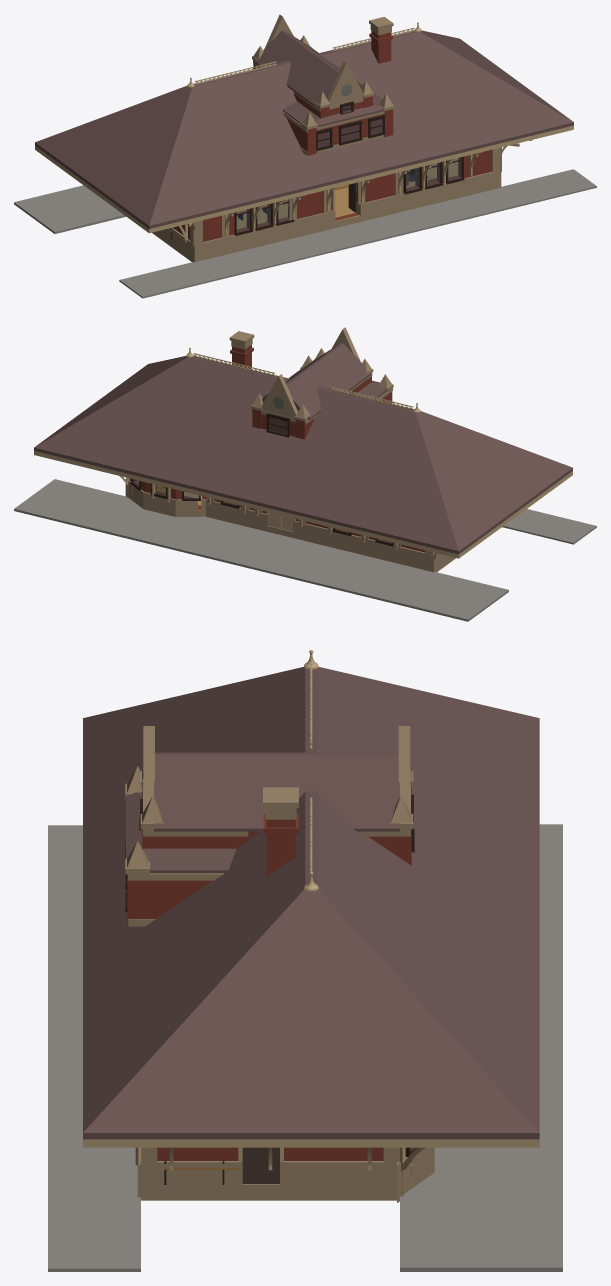
The model's file is Whitewater_Depot.glb.
3 renders of one model, top to bottom at view 1: azimuth 30°, elevation 25°; view 2: azimuth 150°, elevation 25°; view 3: azimuth 270°, elevation 25°, orthographic. The views are drawn at different scales.
Parts seen in each view (by area): view 1: roof, platform, stone, brick, trim, glass, sash, floor, chimney; view 2: roof, platform, stone, trim, brick, sash, glass; view 3: roof, platform, stone, brick, trim, chimney, doors.
Boxes of the visible parts, bbox=[...] form: roof: bbox=[35, 30, 573, 228]; platform: bbox=[14, 169, 596, 298]; stone: bbox=[152, 14, 501, 262]; brick: bbox=[173, 63, 491, 241]; trim: bbox=[35, 22, 573, 246]; glass: bbox=[237, 84, 461, 232]; sash: bbox=[234, 101, 464, 235]; floor: bbox=[236, 158, 458, 229]; chimney: bbox=[369, 30, 393, 63]; roof: bbox=[34, 343, 572, 554]; platform: bbox=[14, 479, 596, 621]; stone: bbox=[125, 327, 455, 572]; trim: bbox=[34, 347, 572, 559]; brick: bbox=[129, 376, 425, 552]; sash: bbox=[130, 413, 393, 546]; glass: bbox=[133, 397, 391, 543]; roof: bbox=[83, 667, 539, 1139]; platform: bbox=[48, 824, 562, 1271]; stone: bbox=[125, 726, 434, 1202]; brick: bbox=[127, 787, 414, 1174]; trim: bbox=[83, 650, 539, 1171]; chimney: bbox=[263, 814, 298, 876]; doors: bbox=[242, 1147, 279, 1183].
Bounding box in the file's own units: 0.9459 × 0.3232 × 0.4646.
